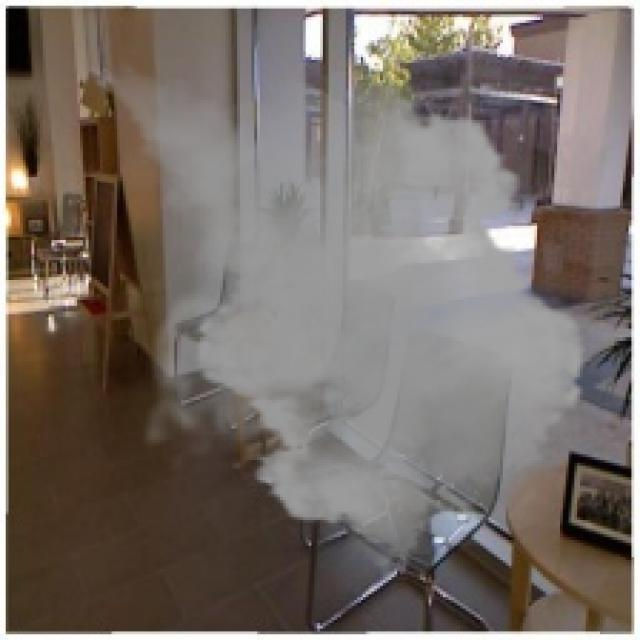Smoke: (57, 51, 600, 583)
